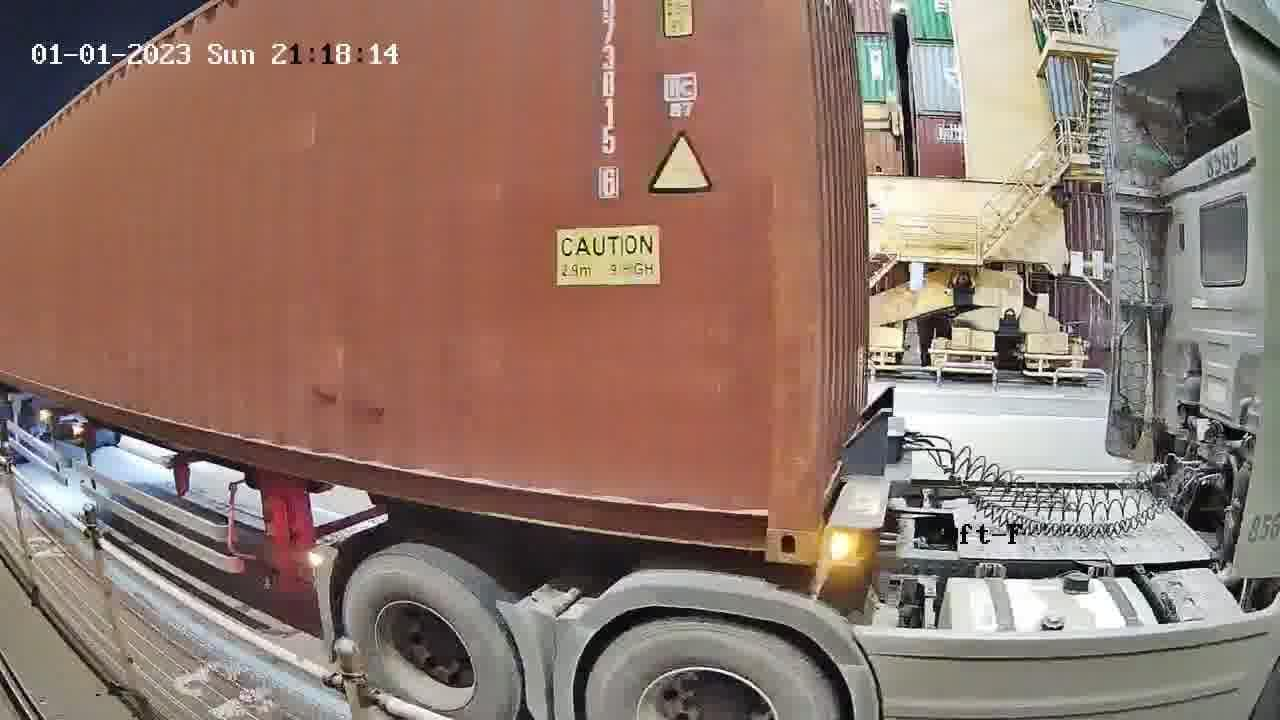Chassis: (827, 410, 901, 533)
Hole_R: (727, 480, 817, 562)
Tire: (344, 558, 520, 716), (589, 619, 840, 719)
